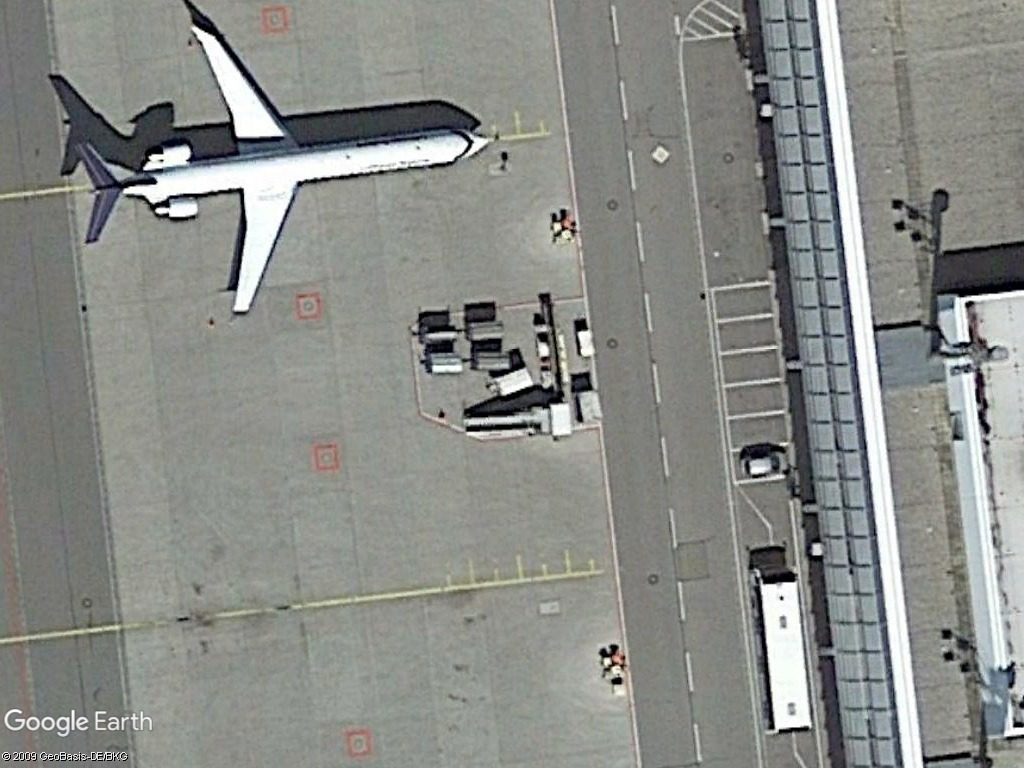bus: (752, 562, 814, 737)
chartered: (50, 15, 505, 338)
stairtruck: (453, 402, 572, 449)
